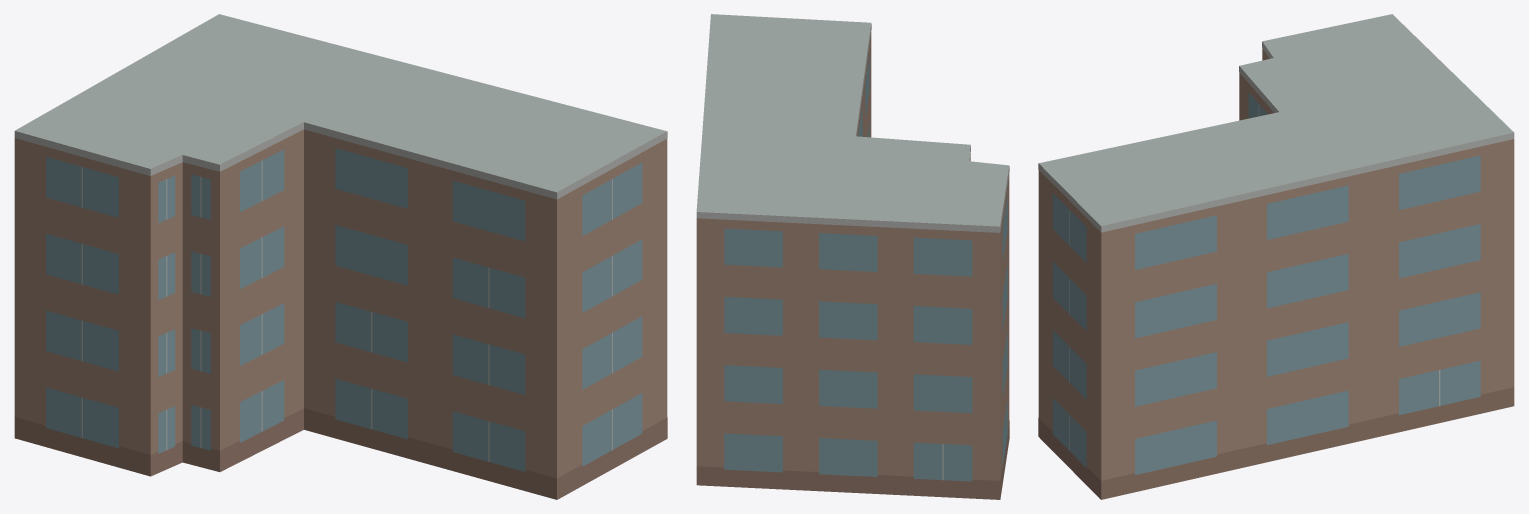
Rendered from survey-upis-32625581.glb.
3 renders of one model, left to right at view 1: azimuth 30°, elevation 25°; view 2: azimuth 150°, elevation 25°; view 3: azimuth 270°, elevation 25°, orthographic. The views are drawn at different scales.
Visible parts, largest first — view 1: survey-upis-32625581.tmp; view 2: survey-upis-32625581.tmp; view 3: survey-upis-32625581.tmp.
Part boxes in pixels (left/top/right/bottom): survey-upis-32625581.tmp: left=14, top=14, right=667, bottom=499; survey-upis-32625581.tmp: left=696, top=14, right=1009, bottom=499; survey-upis-32625581.tmp: left=1038, top=14, right=1514, bottom=499.
Size of the model in its own units: 17.58 by 10.55 by 16.64.
